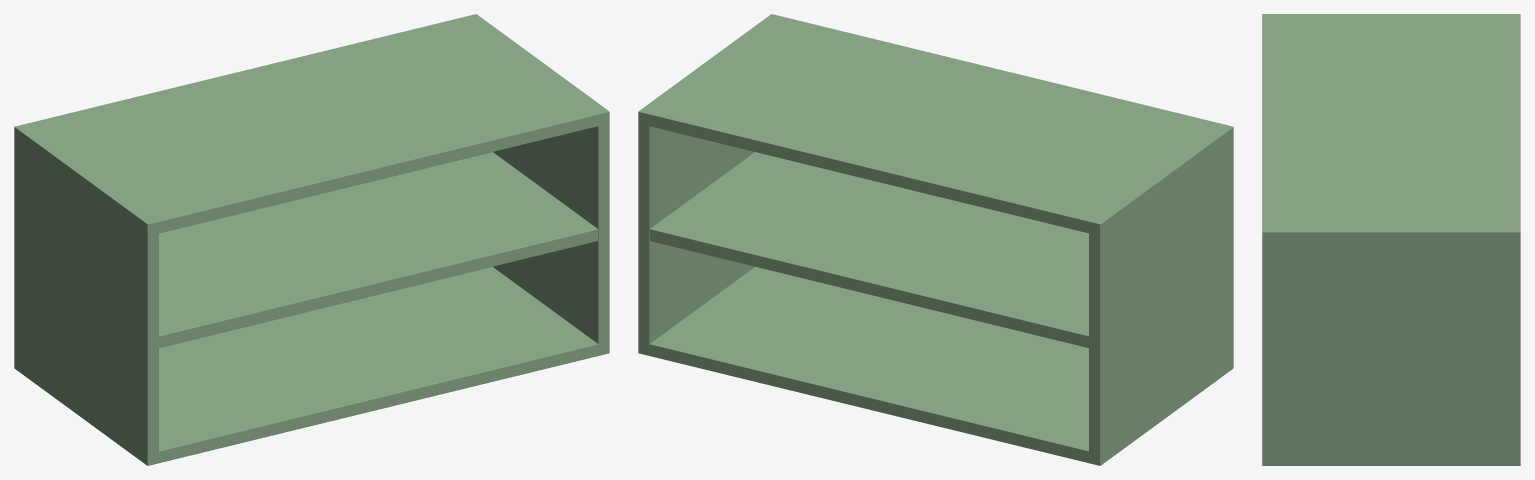
File: MOD-2X1-S-O-SA.glb
The picture shows the model from 3 angles, left to right: view 1: azimuth 30°, elevation 25°; view 2: azimuth 150°, elevation 25°; view 3: azimuth 270°, elevation 25°; orthographic projection. The views are drawn at different scales.
Size of the model in its own units: 720 by 360 by 360.
